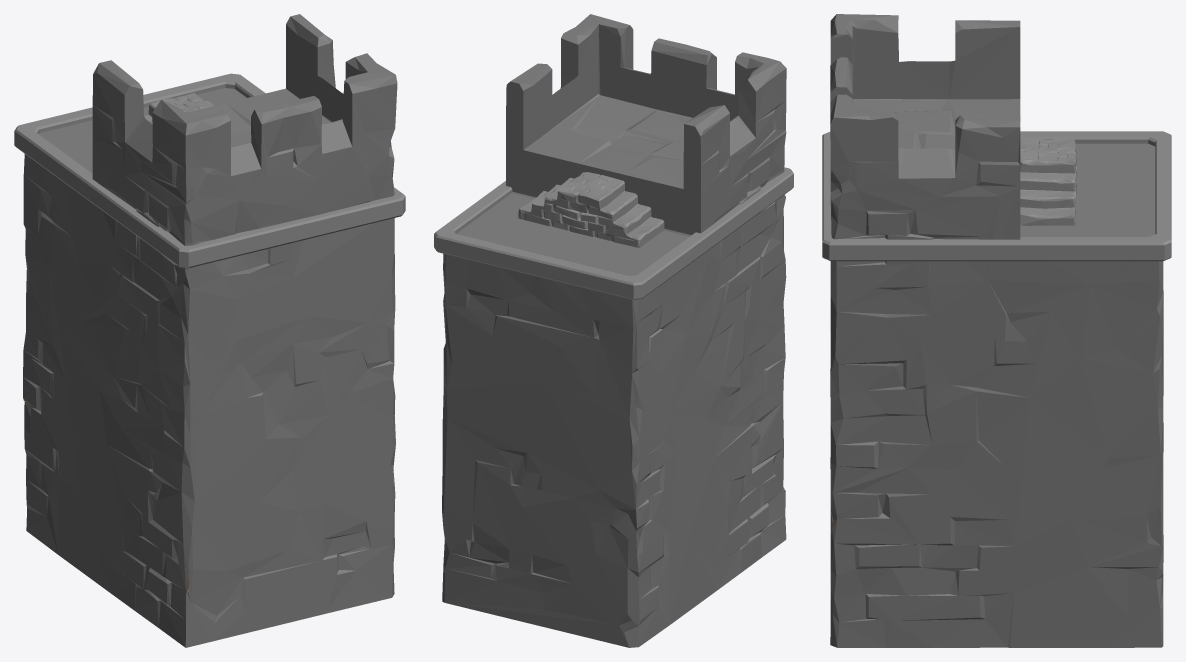
File: castle_battlement_corner_a2.FBX
3 views of the same model, side by side, from view 1: azimuth 30°, elevation 25°; view 2: azimuth 150°, elevation 25°; view 3: azimuth 270°, elevation 25° (orthographic). The views are drawn at different scales.
Visible parts, largest first — view 1: castle_battlement_corner_a2; view 2: castle_battlement_corner_a2; view 3: castle_battlement_corner_a2.
Boxes of the visible parts, x1=… form: castle_battlement_corner_a2: x1=14, y1=14, x2=405, y2=647; castle_battlement_corner_a2: x1=434, y1=14, x2=793, y2=647; castle_battlement_corner_a2: x1=822, y1=14, x2=1171, y2=647.
Size of the model in its own units: 4.8 by 10.57 by 6.3.
